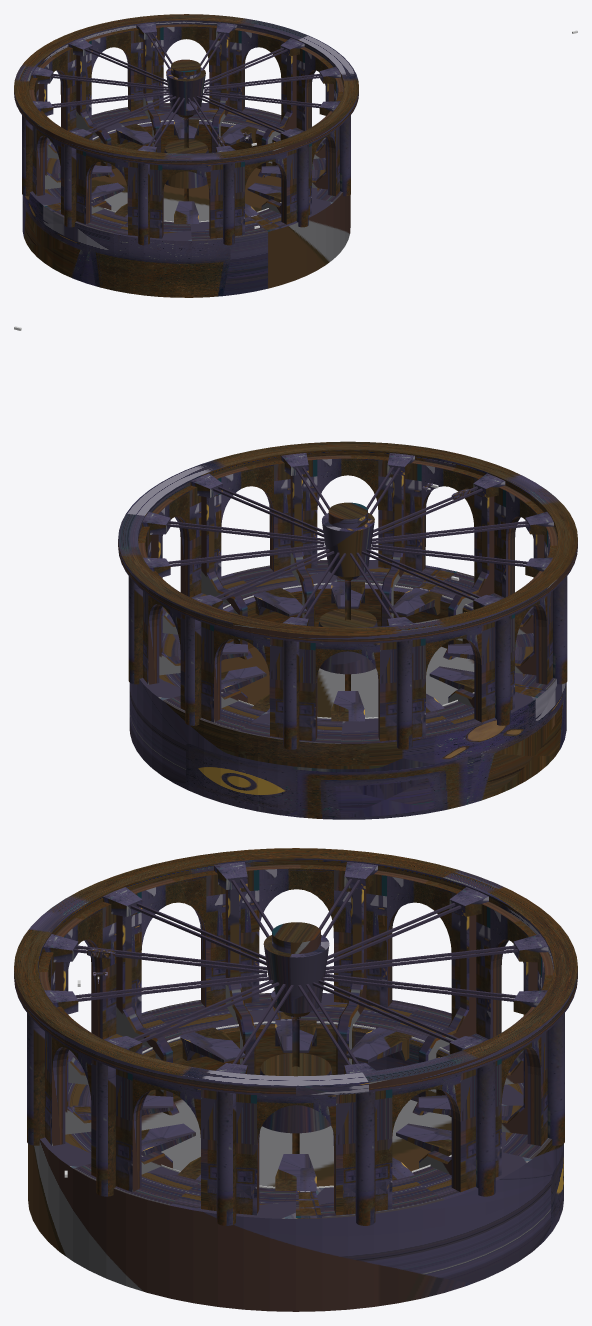
Rendered from M4BO_Chapter1_2.fbx.
3 views of the same model, one above another, from view 1: azimuth 30°, elevation 25°; view 2: azimuth 150°, elevation 25°; view 3: azimuth 270°, elevation 25° (orthographic). The views are drawn at different scales.
Parts seen in each view (by area): view 1: Circle, Cube, Cylinder.002, Cube.002, Cylinder, Cube.004, Cube.001, Cube.003, Cylinder.004, Cylinder.005; view 2: Circle, Cube, Cylinder.002, Cylinder, Cube.002, Cube.004, Cube.001, Cube.003, Cylinder.004, Cylinder.005; view 3: Circle, Cube, Cylinder.002, Cylinder, Cube.002, Cube.004, Cube.001, Cube.003, Cylinder.004, Cylinder.005.
Boxes of the visible parts, x1,y1,x2,y2 form: Circle: [22, 102, 350, 297]; Cube: [29, 24, 343, 238]; Cylinder.002: [14, 14, 358, 165]; Cube.002: [38, 39, 333, 213]; Cylinder: [22, 115, 350, 245]; Cube.004: [50, 33, 322, 146]; Cube.001: [91, 119, 281, 223]; Cube.003: [32, 22, 340, 152]; Cylinder.004: [166, 59, 205, 117]; Cylinder.005: [164, 139, 208, 188]; Circle: [129, 560, 566, 819]; Cube: [138, 455, 557, 741]; Cylinder.002: [118, 441, 577, 644]; Cylinder: [128, 576, 567, 749]; Cube.002: [151, 474, 544, 708]; Cube.004: [167, 467, 528, 618]; Cube.001: [221, 582, 474, 721]; Cube.003: [142, 453, 553, 625]; Cylinder.004: [322, 502, 374, 579]; Cylinder.005: [318, 609, 377, 674]; Circle: [28, 993, 563, 1311]; Cube: [38, 864, 553, 1215]; Cylinder.002: [14, 848, 577, 1096]; Cylinder: [27, 1013, 564, 1225]; Cube.002: [55, 888, 537, 1174]; Cube.004: [74, 879, 517, 1064]; Cube.001: [141, 1020, 451, 1190]; Cube.003: [43, 862, 548, 1074]; Cylinder.004: [263, 922, 329, 1016]; Cylinder.005: [259, 1053, 332, 1133].
Size of the model in its own units: 6182 by 2150 by 3931.
